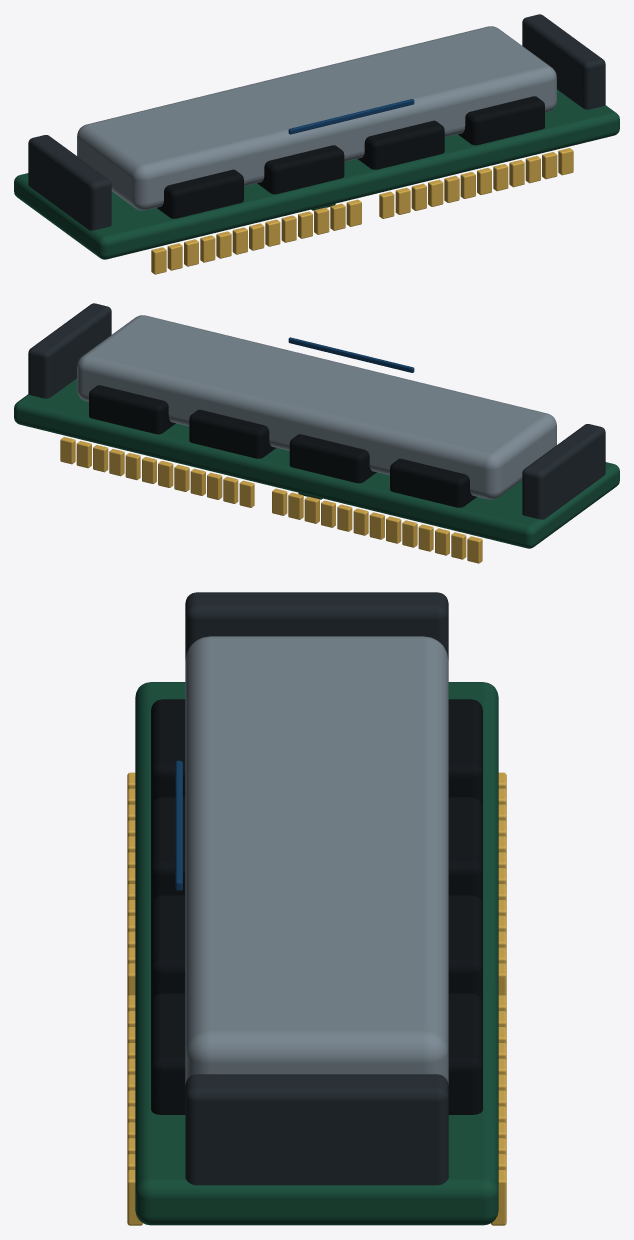
Rendered from memory-module.glb.
3 views of the same model, one above another, from view 1: azimuth 30°, elevation 25°; view 2: azimuth 150°, elevation 25°; view 3: azimuth 270°, elevation 25° (orthographic). The views are drawn at different scales.
Visible parts, largest first — view 1: Heat spreader, RAM PCB, Memory IC (×4), Gold contact (×25), End cap (×2), Module branding; view 2: Heat spreader, RAM PCB, Memory IC (×4), Gold contact (×25), End cap (×2), Module branding; view 3: Heat spreader, End cap (×2), RAM PCB, Memory IC (×8), Module branding.
Boxes of the visible parts, x1=… form: Heat spreader: x1=77, y1=26, x2=556, y2=210; RAM PCB: x1=14, y1=89, x2=619, y2=259; Memory IC (×4): x1=157, y1=96, x2=544, y2=218; Gold contact (×25): x1=151, y1=148, x2=573, y2=274; End cap (×2): x1=28, y1=14, x2=605, y2=230; Module branding: x1=288, y1=99, x2=414, y2=134; Heat spreader: x1=77, y1=315, x2=556, y2=499; RAM PCB: x1=14, y1=378, x2=619, y2=548; Memory IC (×4): x1=89, y1=385, x2=476, y2=507; Gold contact (×25): x1=60, y1=437, x2=482, y2=563; End cap (×2): x1=28, y1=303, x2=605, y2=519; Module branding: x1=288, y1=337, x2=414, y2=372; Heat spreader: x1=185, y1=636, x2=448, y2=1084; End cap (×2): x1=185, y1=592, x2=448, y2=1185; RAM PCB: x1=135, y1=682, x2=498, y2=1225; Memory IC (×8): x1=151, y1=699, x2=482, y2=1114; Module branding: x1=175, y1=760, x2=182, y2=890.
Bounding box in the file's own units: 1.92 × 0.404 × 0.605.
